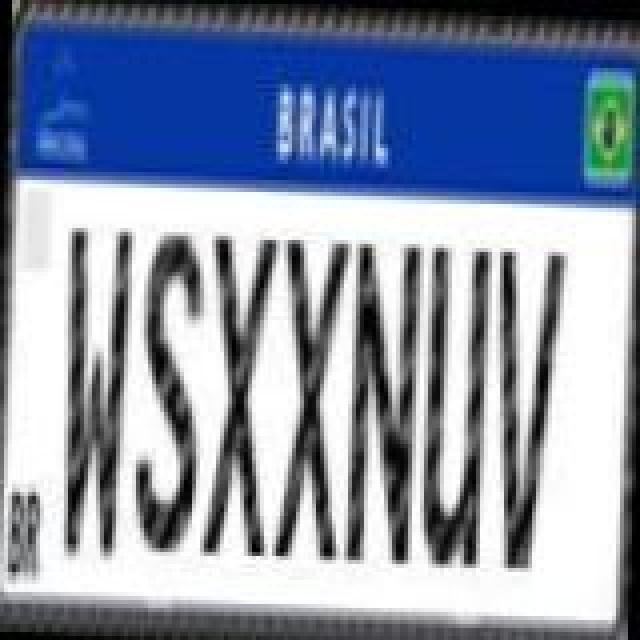N: (340, 230, 420, 566)
S: (130, 220, 206, 556)
U: (420, 236, 492, 568)
V: (484, 240, 564, 572)
W: (54, 224, 130, 564)
X: (200, 224, 280, 560), (270, 230, 346, 562)
